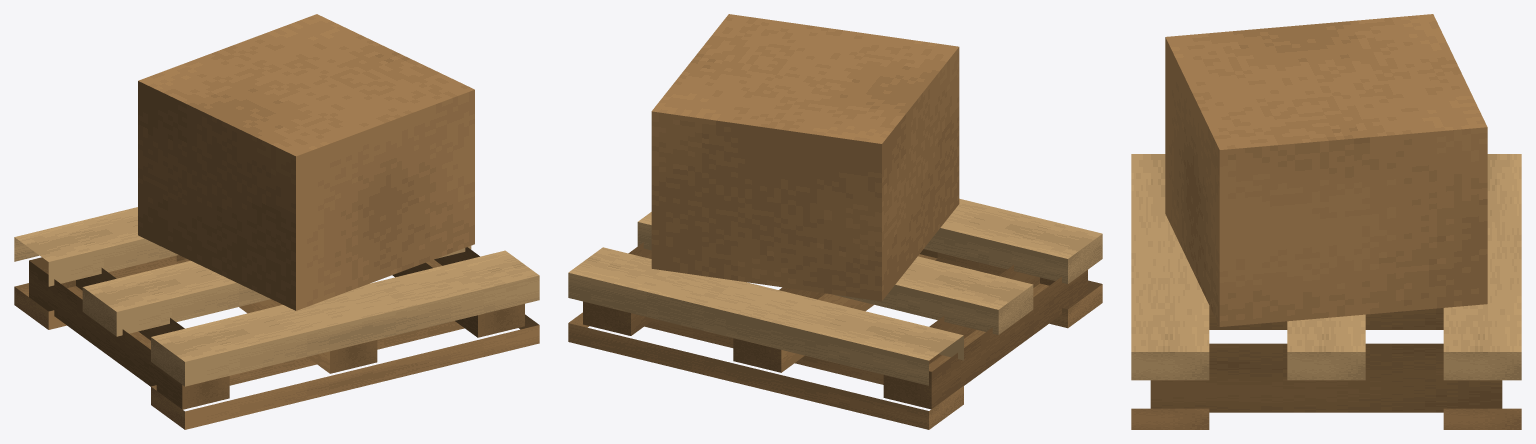
The model's file is prop_pallet.glb.
3 renders of one model, left to right at view 1: azimuth 30°, elevation 25°; view 2: azimuth 150°, elevation 25°; view 3: azimuth 270°, elevation 25°, orthographic. The views are drawn at different scales.
Visible parts, largest first — view 1: prop_pallet; view 2: prop_pallet; view 3: prop_pallet.
Boxes of the visible parts, bbox=[...] form: prop_pallet: bbox=[14, 14, 539, 429]; prop_pallet: bbox=[568, 14, 1102, 429]; prop_pallet: bbox=[1131, 14, 1521, 429].
Size of the model in its own units: 1.2 by 0.75 by 1.
1 material, 1 textured.
